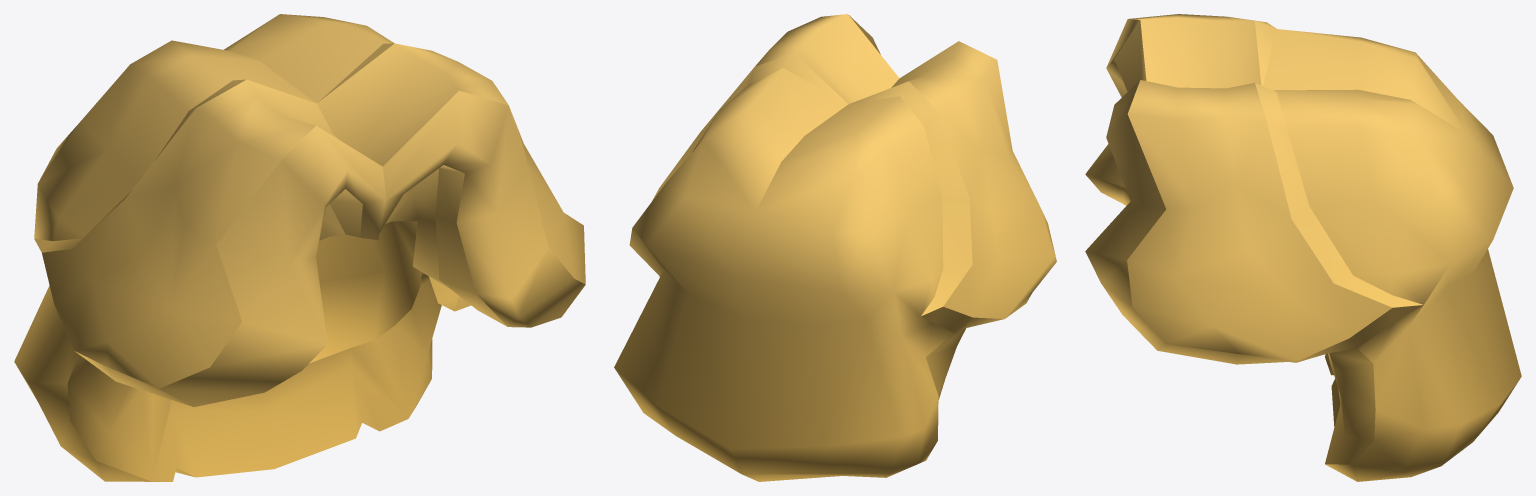
The model's file is Hair_Yellow_6.fbx.
The picture shows the model from 3 angles, left to right: view 1: azimuth 30°, elevation 25°; view 2: azimuth 150°, elevation 25°; view 3: azimuth 270°, elevation 25°; orthographic projection. The views are drawn at different scales.
Visible parts, largest first — view 1: Hair_Yellow_6; view 2: Hair_Yellow_6; view 3: Hair_Yellow_6.
Part boxes in pixels (x1,y1,x2,y2): Hair_Yellow_6: (14, 14, 585, 481); Hair_Yellow_6: (614, 14, 1056, 481); Hair_Yellow_6: (1085, 14, 1521, 481).
Size of the model in its own units: 71.21 by 65.88 by 65.95.
